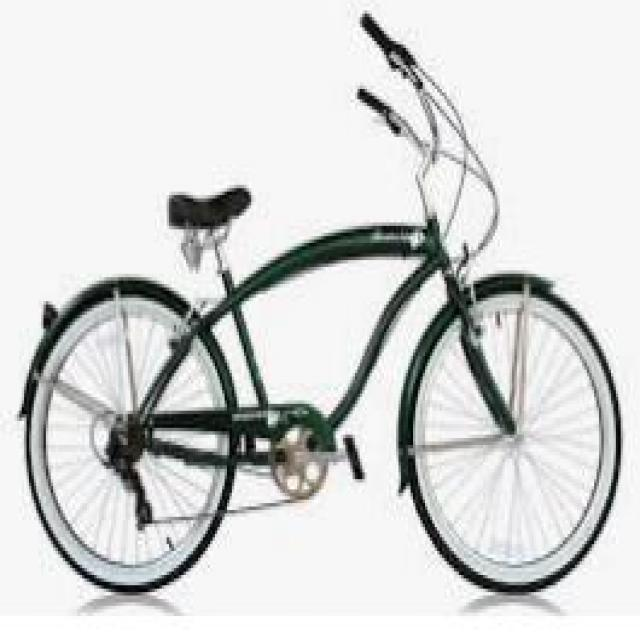bicycle: (11, 22, 632, 590)
